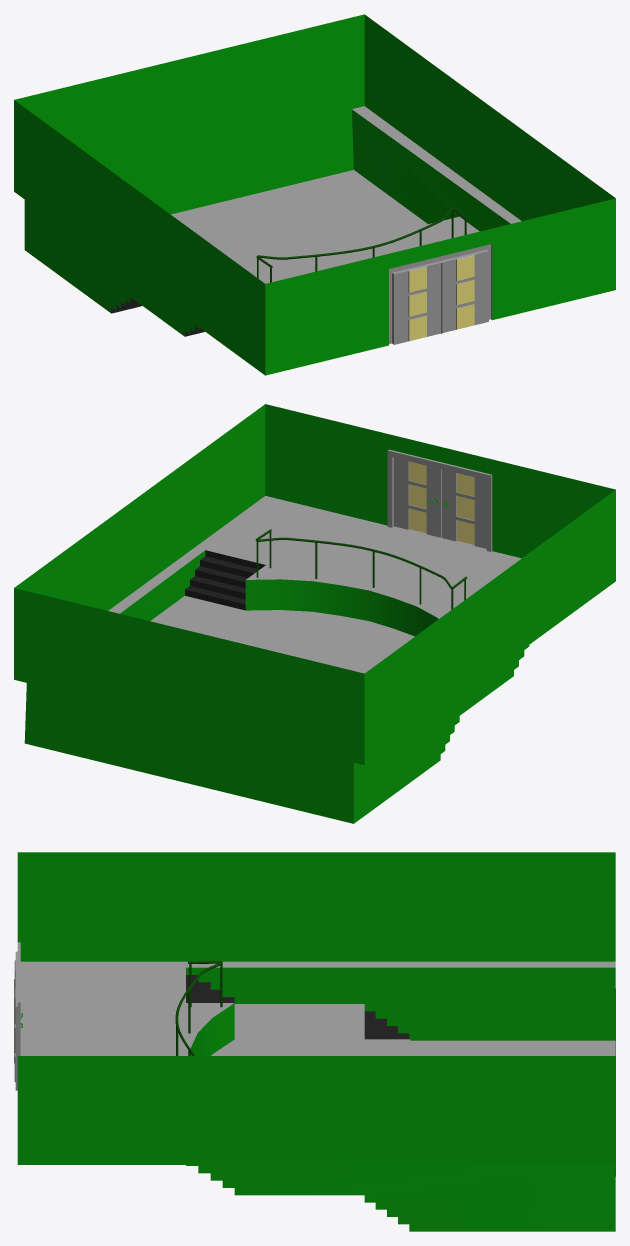
The model's file is Room 1.FBX.
3 views of the same model, one above another, from view 1: azimuth 30°, elevation 25°; view 2: azimuth 150°, elevation 25°; view 3: azimuth 270°, elevation 25° (orthographic). The views are drawn at different scales.
Parts seen in each view (by area): view 1: room; view 2: room; view 3: room.
Boxes of the visible parts, x1=… form: room: x1=14, y1=14, x2=615, y2=375; room: x1=14, y1=404, x2=615, y2=823; room: x1=14, y1=852, x2=615, y2=1231.
Bounding box in the file's own units: 472 × 197 × 590.
